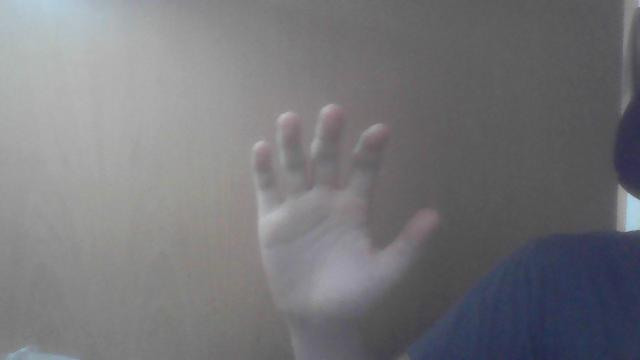Stop: (250, 106, 428, 320)
